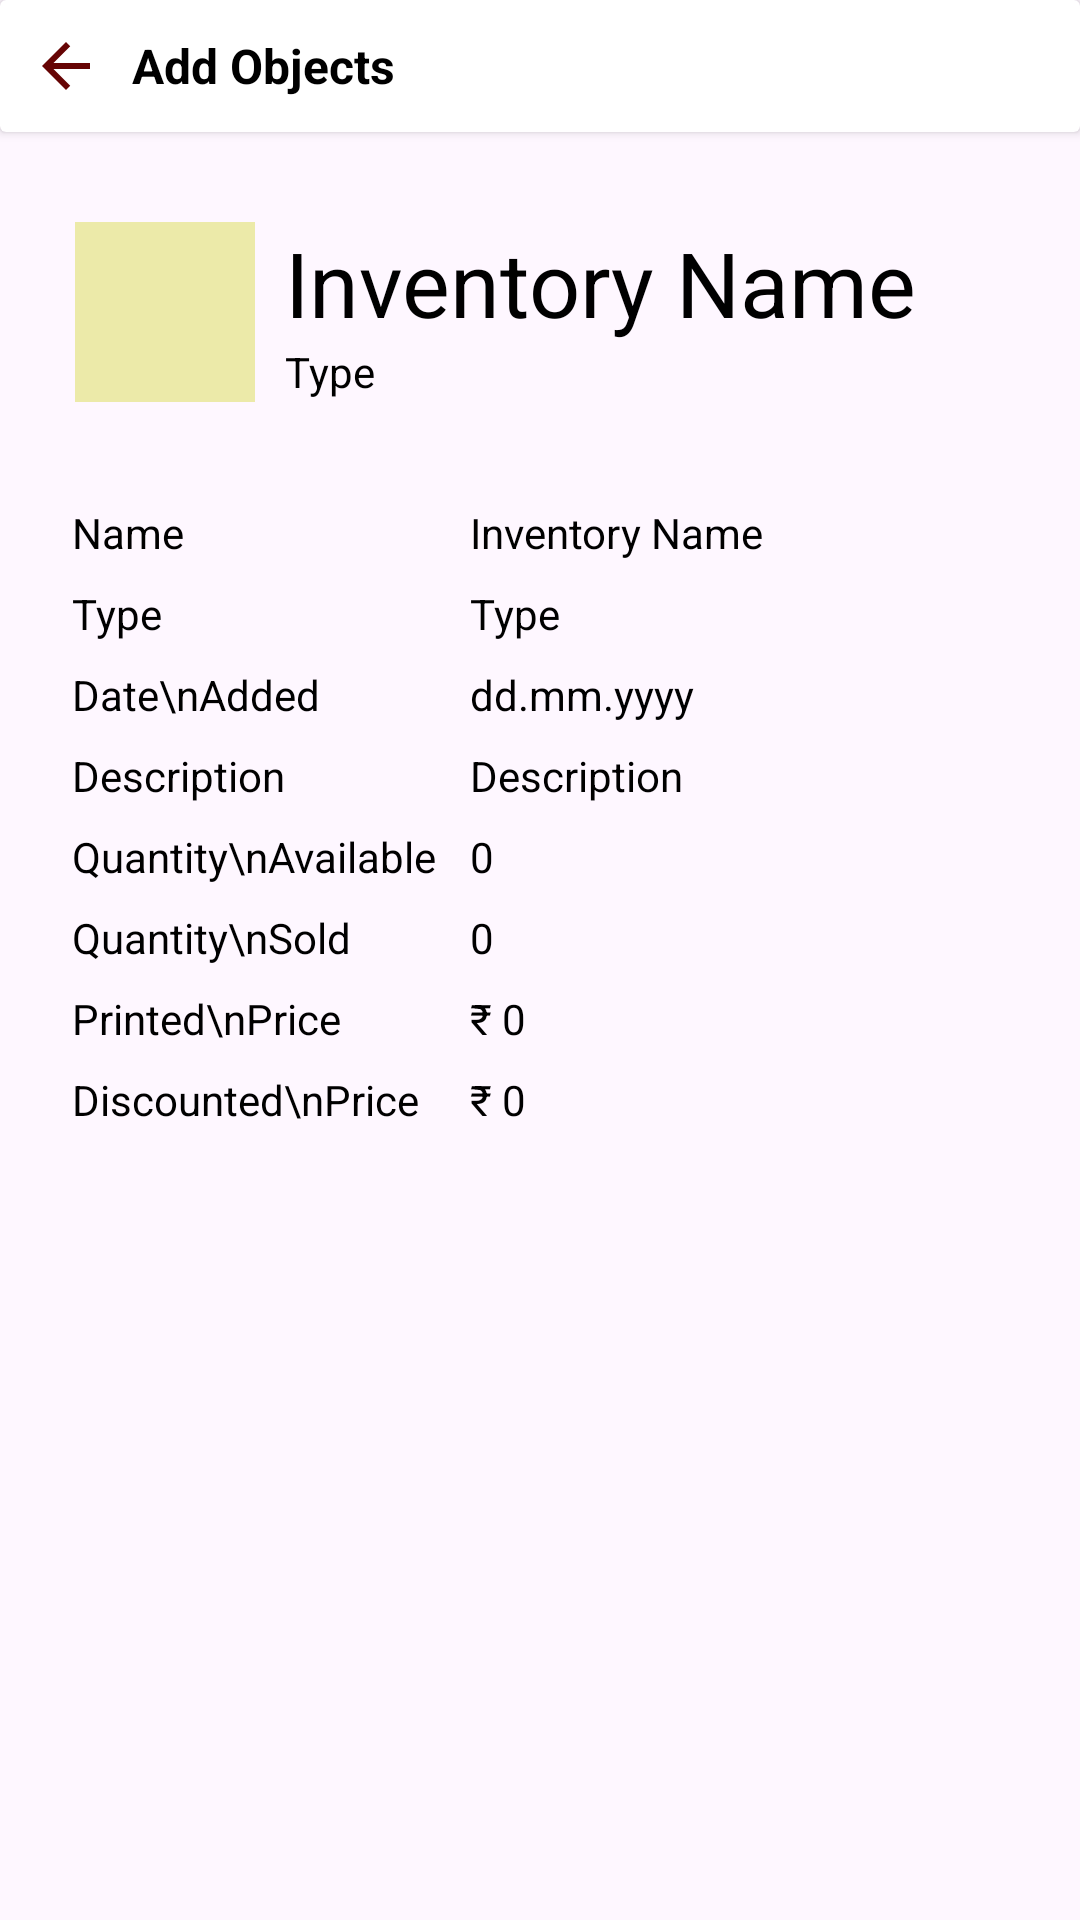

Where to tap for icons on this 1080w x 1920h app screen, as [x,y]:
Back: [66,66]
